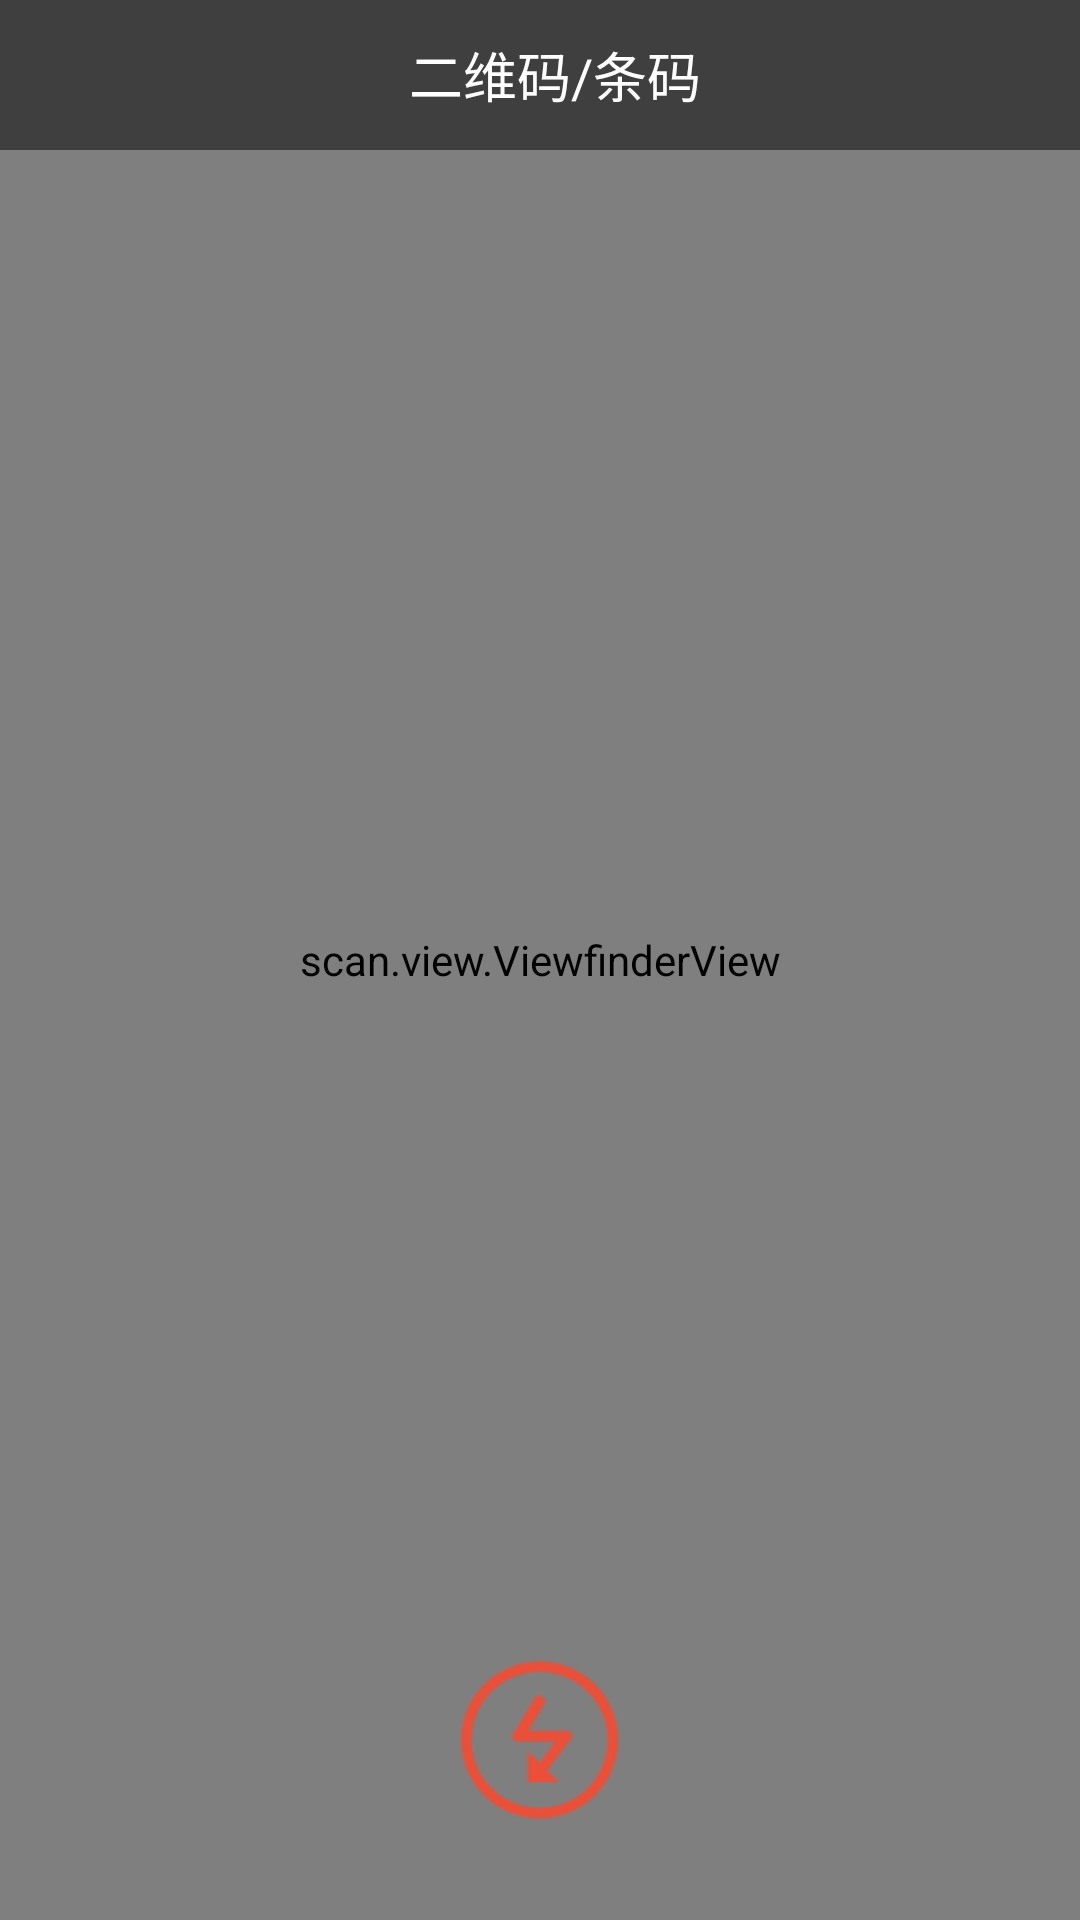

Point at icon controls on the screen. Image size 1080 x 1920, points as point (x, y).
offlight: point (539, 1740)
